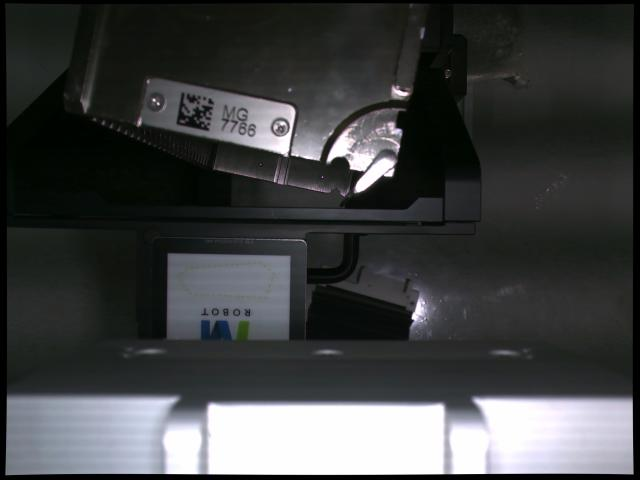jig_latch: (353, 150, 397, 195)
